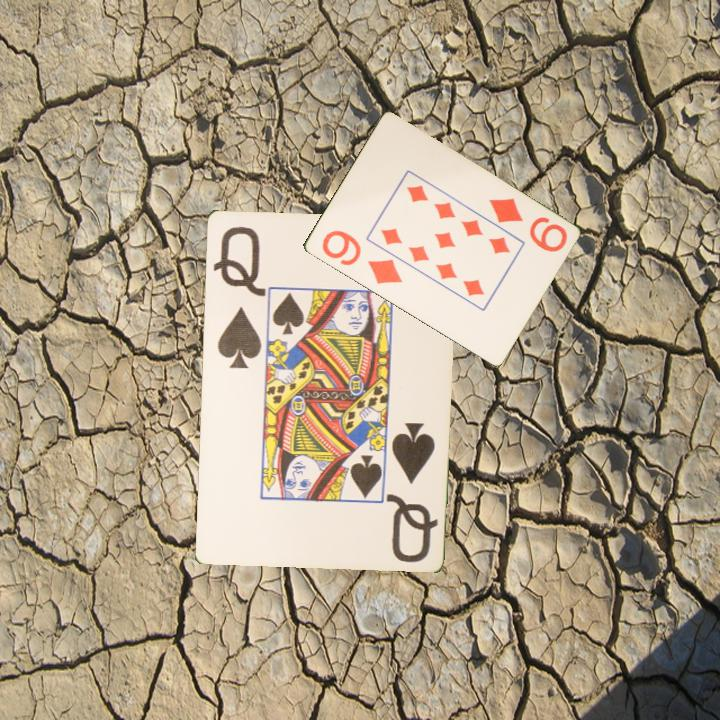9d: (318, 226, 405, 287), (485, 194, 570, 255)
Qs: (209, 222, 266, 372), (385, 418, 441, 565)
